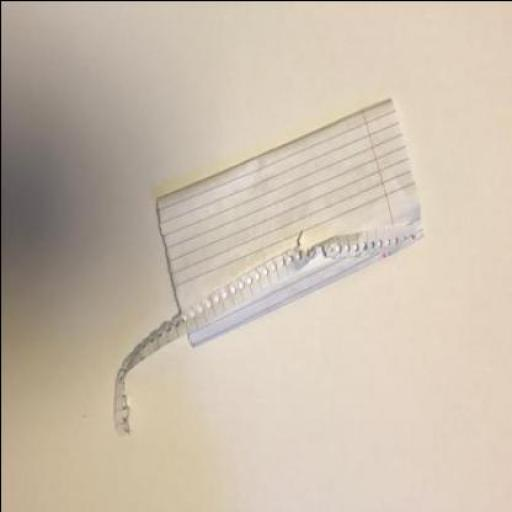paper: (114, 98, 424, 434)
